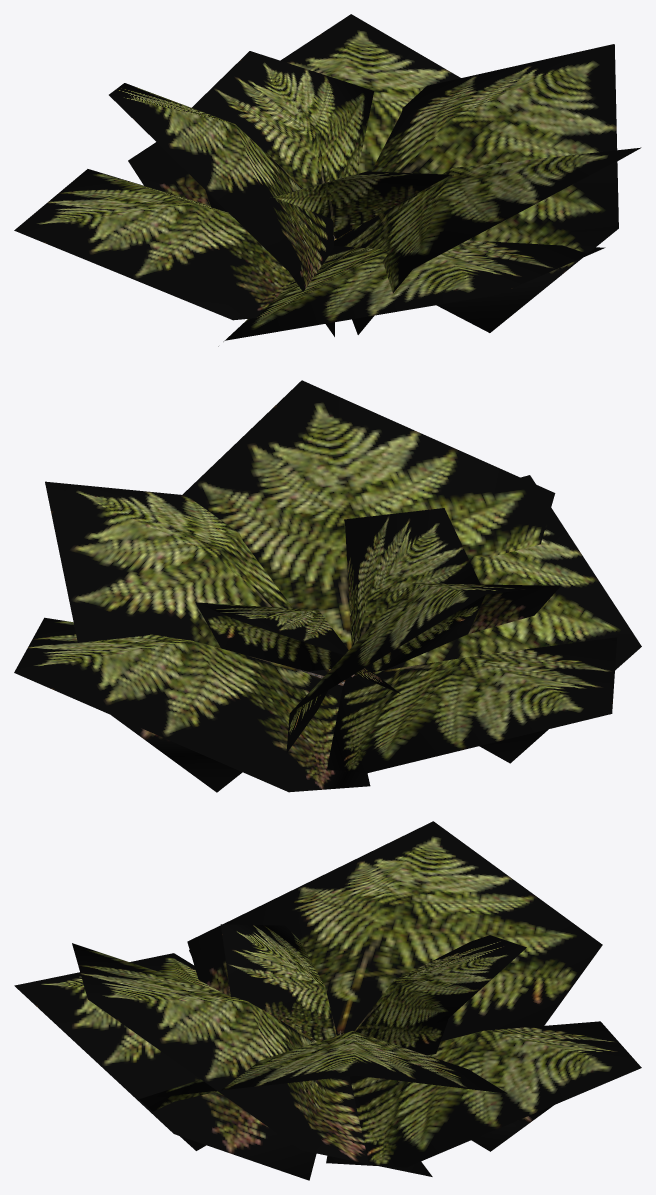
Rendered from fern1.obj.
3 views of the same model, one above another, from view 1: azimuth 30°, elevation 25°; view 2: azimuth 150°, elevation 25°; view 3: azimuth 270°, elevation 25° (orthographic). The views are drawn at different scales.
Parts seen in each view (by area): view 1: Object07; view 2: Object07; view 3: Object07.
Boxes of the visible parts, left/top/right/bottom form: Object07: left=14, top=14, right=641, bottom=346; Object07: left=14, top=380, right=641, bottom=792; Object07: left=14, top=821, right=641, bottom=1180.
Bounding box in the file's own units: 1116 × 421 × 1085.
